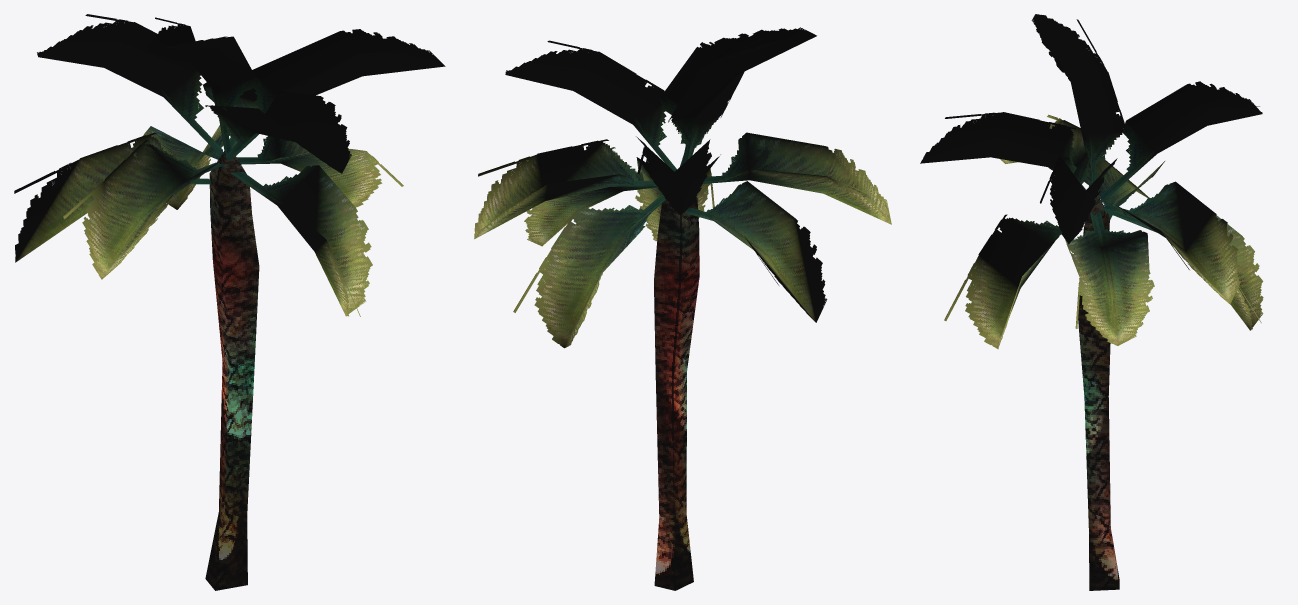
The model's file is stage-lasv-p3-1306.glb.
3 views of the same model, side by side, from view 1: azimuth 30°, elevation 25°; view 2: azimuth 150°, elevation 25°; view 3: azimuth 270°, elevation 25° (orthographic). The views are drawn at different scales.
Size of the model in its own units: 5.29 by 7.66 by 4.78.
Materials: 2 (2 with a texture image).
